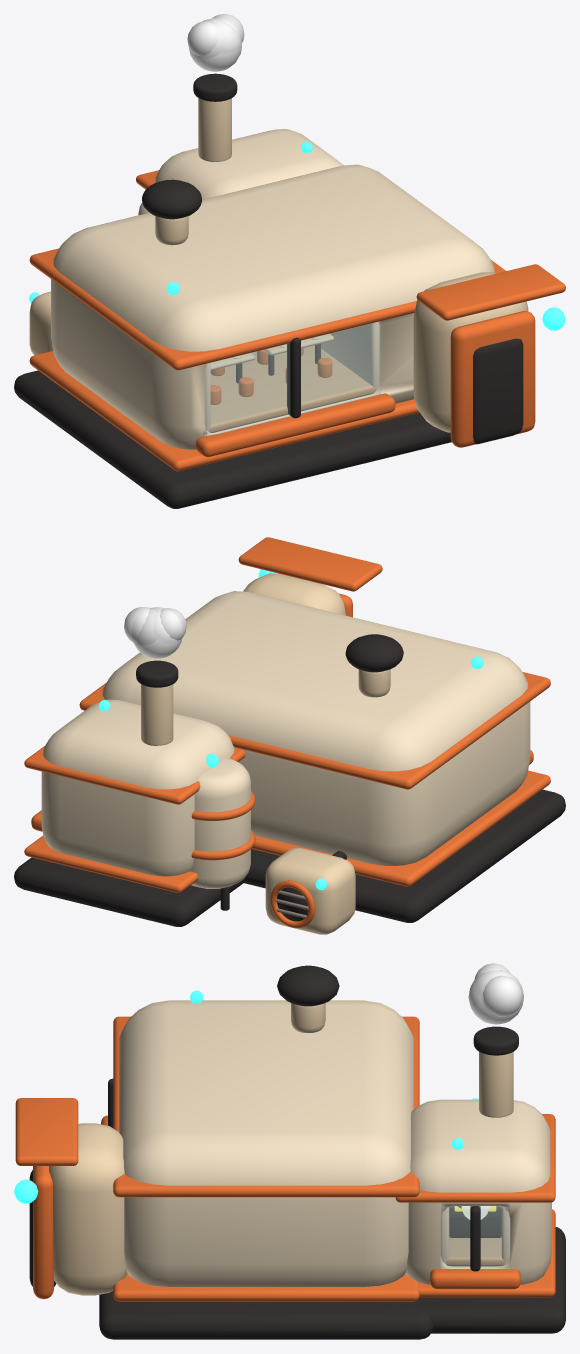
Rendered from canteen-1i.glb.
3 views of the same model, one above another, from view 1: azimuth 30°, elevation 25°; view 2: azimuth 150°, elevation 25°; view 3: azimuth 270°, elevation 25° (orthographic). The views are drawn at different scales.
Parts seen in each view (by area): view 1: Cube.001, Cube.002, Cube, Cube.009, Cube.007, Cube.004, Cube.003, Sphere.007, Sphere.005; view 2: Cube.001, Cube.002, Cube, Cube.007, Sphere.007, Sphere.005; view 3: Cube.001, Cube, Cube.002, Cube.007, Cube.009, Sphere.007, Cube.004, Cube.003, Sphere.005.
Part boxes in pixels (x1,y1,x2,y2): Cube.001: (51, 129, 494, 449); Cube.002: (29, 170, 565, 471); Cube: (14, 73, 523, 508); Cube.009: (205, 321, 381, 436); Cube.007: (29, 98, 528, 432); Cube.004: (208, 345, 376, 432); Cube.003: (203, 321, 379, 434); Sphere.007: (187, 14, 244, 71); Sphere.005: (29, 141, 565, 330); Cube.001: (41, 591, 530, 888); Cube.002: (24, 537, 550, 928); Cube: (14, 634, 565, 926); Cube.007: (141, 573, 390, 934); Sphere.007: (124, 607, 186, 658); Sphere.005: (99, 569, 483, 889); Cube.001: (119, 1000, 551, 1286); Cube: (29, 965, 565, 1339); Cube.002: (15, 1016, 555, 1301); Cube.007: (49, 1003, 513, 1295); Cube.009: (440, 1206, 510, 1268); Sphere.007: (468, 963, 523, 1024); Cube.004: (446, 1237, 504, 1266); Cube.003: (440, 1207, 510, 1263); Sphere.005: (14, 990, 478, 1203).
Bounding box in the file's own units: 1.26 × 0.974 × 1.59.
